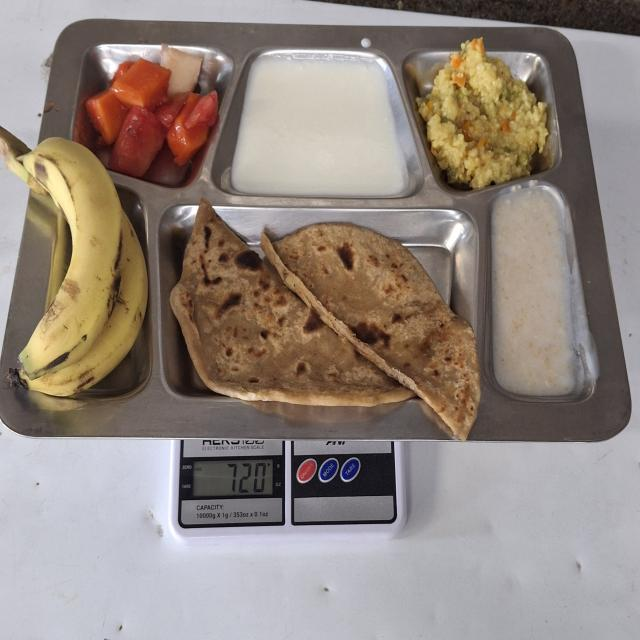Banana: (0, 125, 149, 401)
Chapati: (167, 198, 480, 445)
